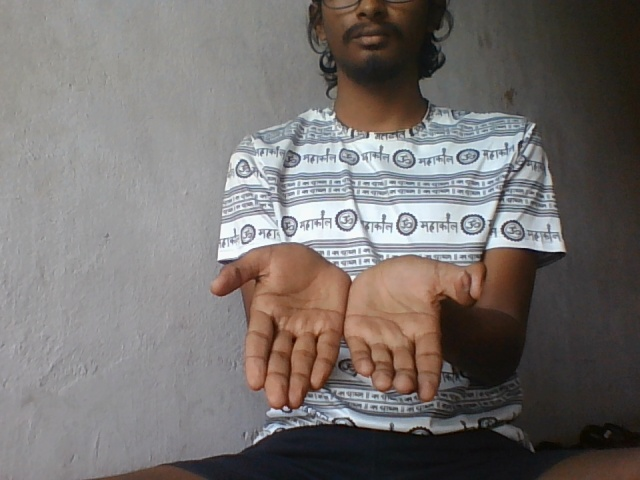Help: (194, 231, 498, 427)
